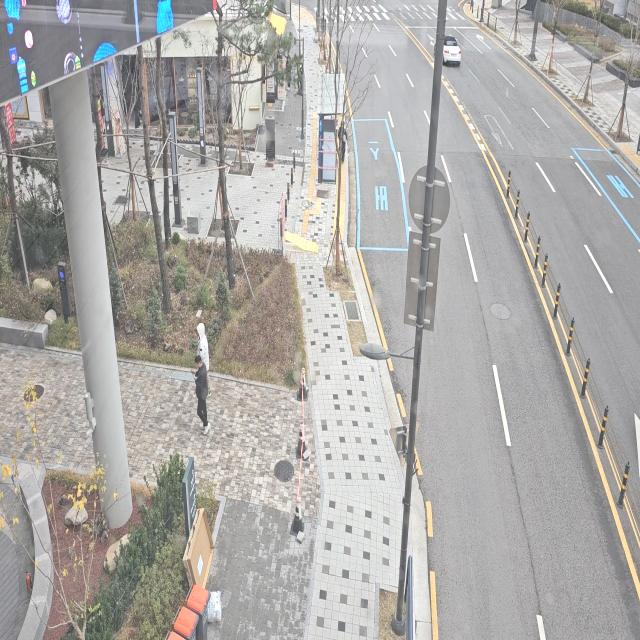Car: (438, 23, 466, 72)
